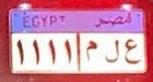1: (15, 39, 26, 63), (64, 39, 74, 64), (32, 38, 41, 64), (49, 39, 55, 65)
ain: (124, 38, 140, 65)
laam: (106, 40, 120, 64)
meem: (84, 40, 99, 62)
